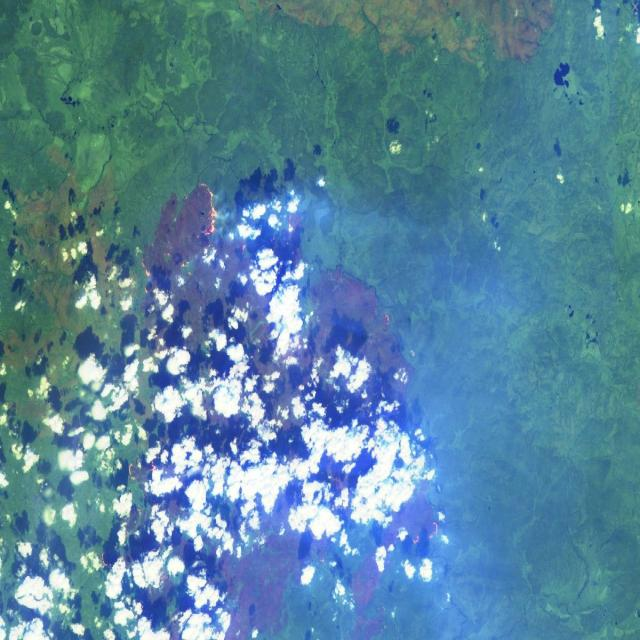fire: (188, 175, 222, 248), (132, 249, 157, 305)
